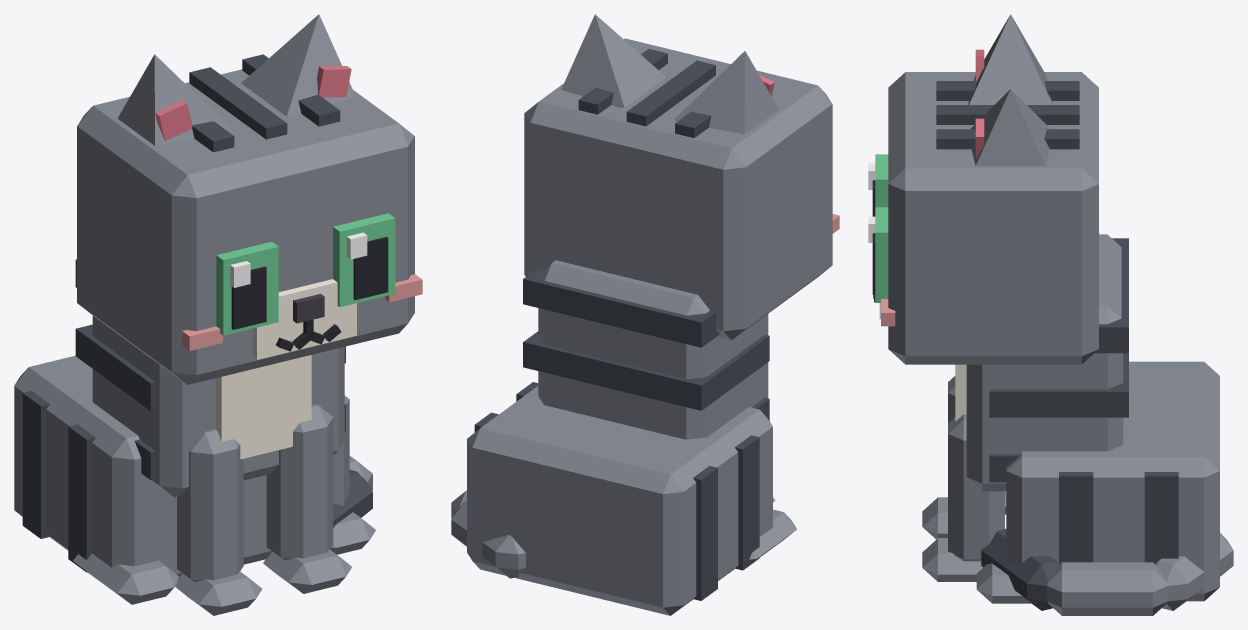
The model's file is CatCafe_Cat_Pipes_Sit.glb.
3 views of the same model, side by side, from view 1: azimuth 30°, elevation 25°; view 2: azimuth 150°, elevation 25°; view 3: azimuth 270°, elevation 25° (orthographic). The views are drawn at different scales.
Visible parts, largest first — view 1: CatCafe_Cat_Pipes_Sit_Head, CatCafe_Cat_Pipes_Sit_Body, CatCafe_Cat_Pipes_Sit_LegF2, CatCafe_Cat_Pipes_Sit_LegF1, CatCafe_Cat_Pipes_Sit_EarL, CatCafe_Cat_Pipes_Sit_Eye2, CatCafe_Cat_Pipes_Sit_Eye1, CatCafe_Cat_Pipes_Sit_EarR, CatCafe_Cat_Pipes_Sit_Tail; view 2: CatCafe_Cat_Pipes_Sit_Body, CatCafe_Cat_Pipes_Sit_Head, CatCafe_Cat_Pipes_Sit_EarL, CatCafe_Cat_Pipes_Sit_EarR, CatCafe_Cat_Pipes_Sit_Tail; view 3: CatCafe_Cat_Pipes_Sit_Head, CatCafe_Cat_Pipes_Sit_Body, CatCafe_Cat_Pipes_Sit_Tail, CatCafe_Cat_Pipes_Sit_LegF1, CatCafe_Cat_Pipes_Sit_EarL, CatCafe_Cat_Pipes_Sit_EarR, CatCafe_Cat_Pipes_Sit_Eye1, CatCafe_Cat_Pipes_Sit_LegF2, CatCafe_Cat_Pipes_Sit_Eye2.
Part boxes in pixels (box(x1,y1,x2,y2)): CatCafe_Cat_Pipes_Sit_Head: box(77, 54, 422, 384); CatCafe_Cat_Pipes_Sit_Body: box(14, 259, 375, 604); CatCafe_Cat_Pipes_Sit_LegF2: box(175, 429, 262, 615); CatCafe_Cat_Pipes_Sit_LegF1: box(263, 404, 351, 593); CatCafe_Cat_Pipes_Sit_EarL: box(241, 14, 355, 116); CatCafe_Cat_Pipes_Sit_Eye2: box(216, 241, 278, 335); CatCafe_Cat_Pipes_Sit_Eye1: box(333, 213, 395, 306); CatCafe_Cat_Pipes_Sit_EarR: box(117, 54, 232, 145); CatCafe_Cat_Pipes_Sit_Tail: box(333, 456, 372, 527); CatCafe_Cat_Pipes_Sit_Body: box(467, 260, 796, 615); CatCafe_Cat_Pipes_Sit_Head: box(524, 38, 839, 340); CatCafe_Cat_Pipes_Sit_EarL: box(561, 14, 665, 107); CatCafe_Cat_Pipes_Sit_EarR: box(674, 51, 778, 134); CatCafe_Cat_Pipes_Sit_Tail: box(451, 490, 525, 578); CatCafe_Cat_Pipes_Sit_Head: box(873, 72, 1098, 364); CatCafe_Cat_Pipes_Sit_Body: box(955, 234, 1219, 603); CatCafe_Cat_Pipes_Sit_Tail: box(981, 529, 1233, 615); CatCafe_Cat_Pipes_Sit_LegF1: box(922, 414, 1004, 581); CatCafe_Cat_Pipes_Sit_EarL: box(970, 89, 1050, 165); CatCafe_Cat_Pipes_Sit_EarR: box(968, 14, 1053, 104); CatCafe_Cat_Pipes_Sit_Eye1: box(868, 207, 888, 302); CatCafe_Cat_Pipes_Sit_LegF2: box(922, 376, 955, 539); CatCafe_Cat_Pipes_Sit_Eye2: box(868, 154, 888, 216).
Bounding box in the file's own units: 1.05 × 1.85 × 1.22.
1 material, 1 textured.
